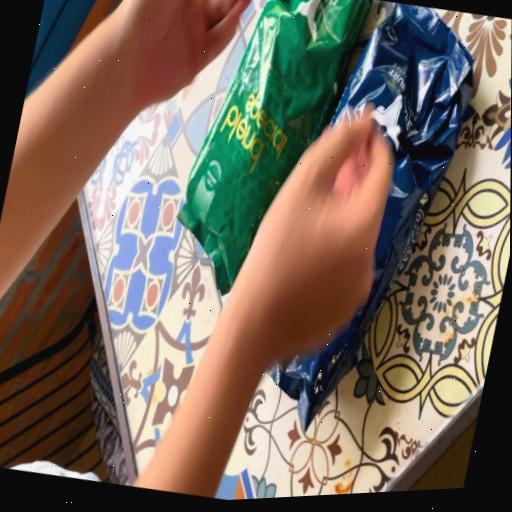cafe_hat: (269, 2, 473, 428)
cafe_xay: (178, 0, 372, 294)
